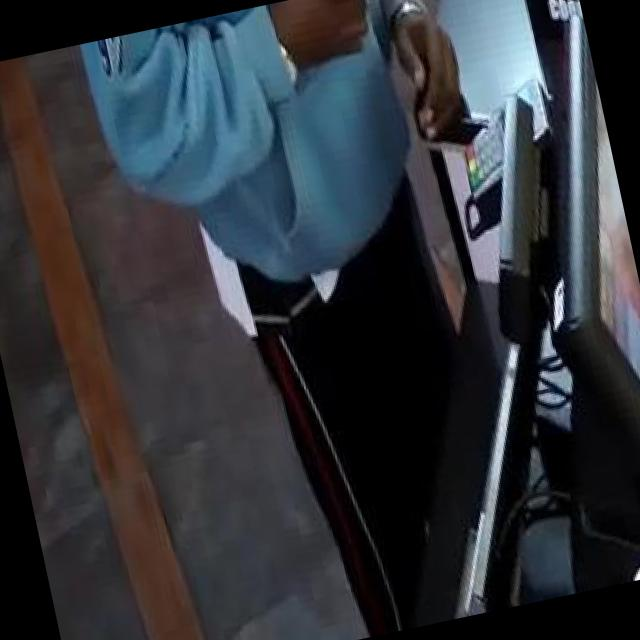Guns: (287, 0, 442, 49)
